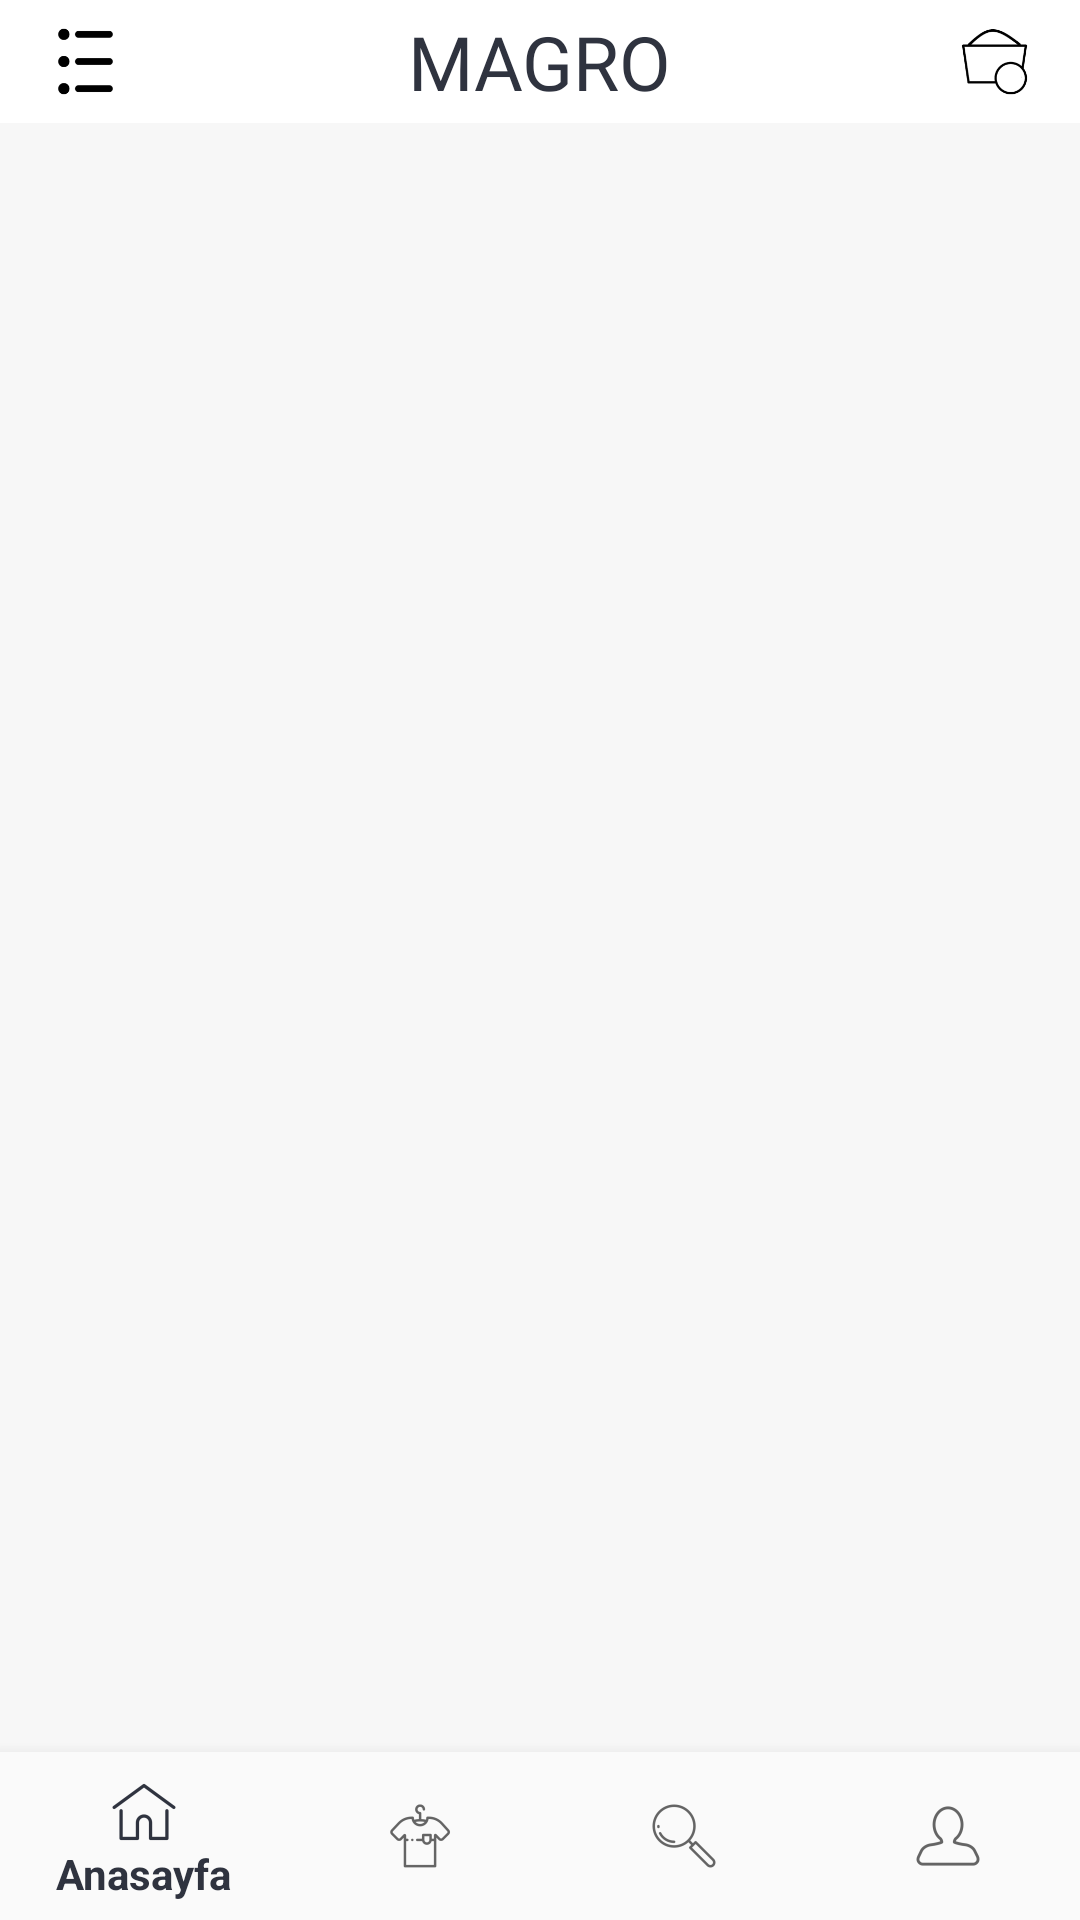

Icon bounding boxes for this 1080 x 1920 phone screenshot, format (x1, y1, x2, y2):
menu: (58, 28, 113, 95)
sepet: (962, 29, 1027, 95)
